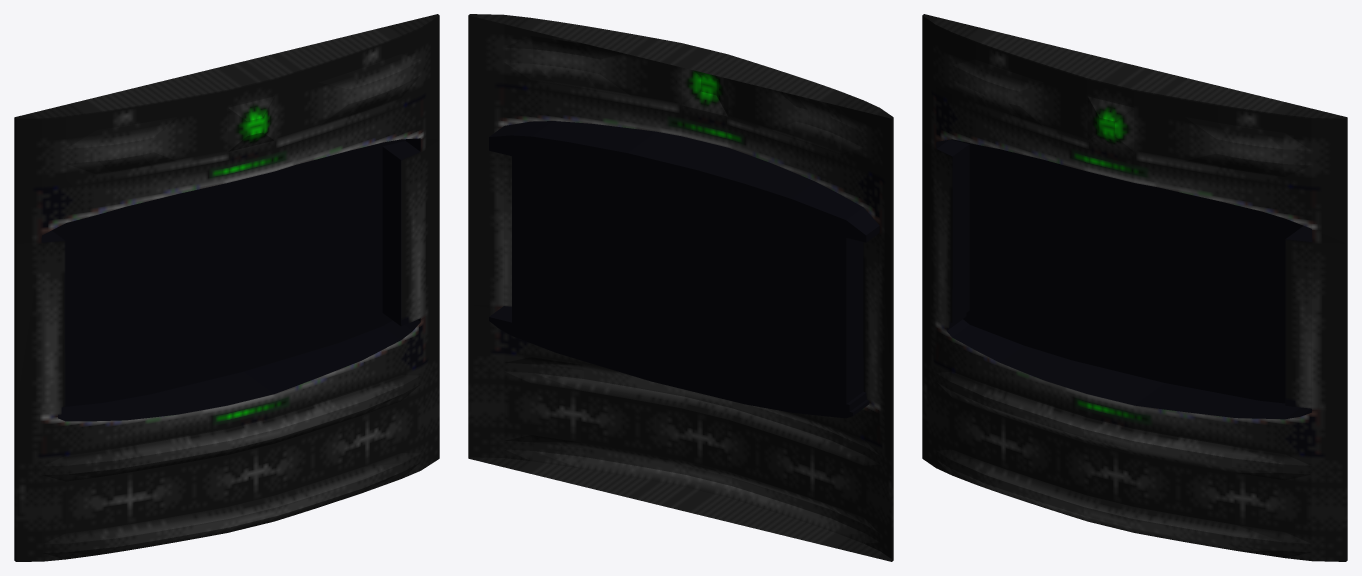
Rendered from bridg2_4.fbx.
3 views of the same model, side by side, from view 1: azimuth 30°, elevation 25°; view 2: azimuth 150°, elevation 25°; view 3: azimuth 330°, elevation 25° (orthographic).
Parts seen in each view (by area): view 1: bridg2_4_mesh; view 2: bridg2_4_mesh; view 3: bridg2_4_mesh.
Part boxes in pixels (left/top/right/bottom): bridg2_4_mesh: left=14, top=14, right=439, bottom=561; bridg2_4_mesh: left=468, top=14, right=893, bottom=561; bridg2_4_mesh: left=922, top=14, right=1347, bottom=561.
Bounding box in the file's own units: 256 × 256 × 36.21.
